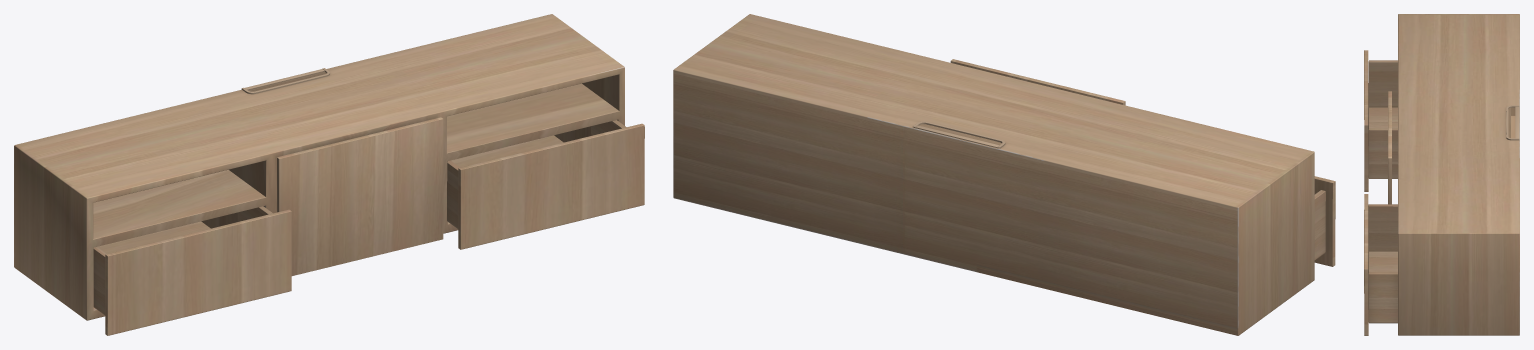
File: TV bench Lappviken white stained oak effect.gltf
The picture shows the model from 3 angles, left to right: view 1: azimuth 30°, elevation 25°; view 2: azimuth 150°, elevation 25°; view 3: azimuth 270°, elevation 25°; orthographic projection. The views are drawn at different scales.
Parts seen in each view (by area): view 1: Tv shelf_001; view 2: Tv shelf_001; view 3: Tv shelf_001.
Boxes of the visible parts, x1,y1,x2,y2 form: Tv shelf_001: (14, 14, 644, 335); Tv shelf_001: (673, 14, 1335, 335); Tv shelf_001: (1364, 14, 1519, 335).
Size of the model in its own units: 1.81 by 0.4 by 0.542.
1 material, 1 textured.
